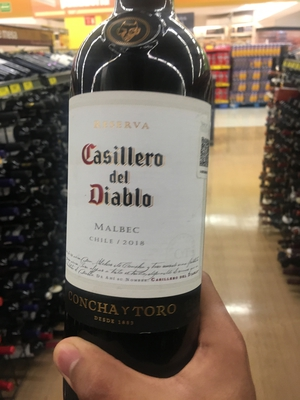casillero del diablo malbec: (50, 10, 224, 369)
